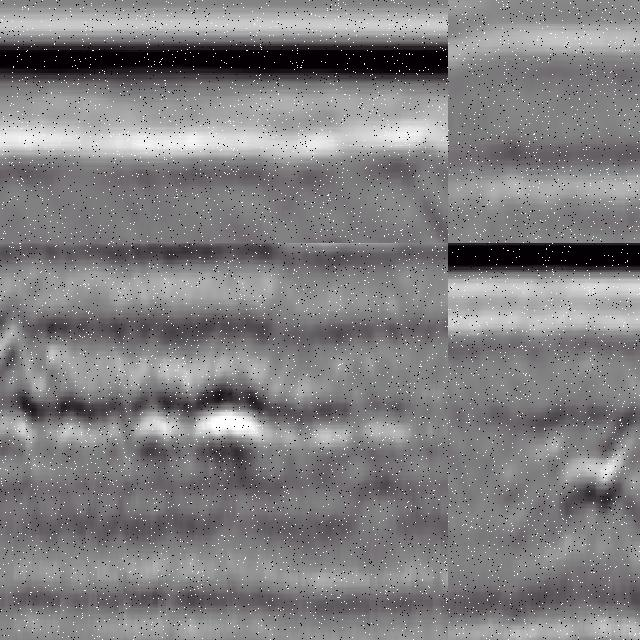loose: (1, 301, 272, 451), (326, 143, 449, 244), (546, 426, 640, 521)
